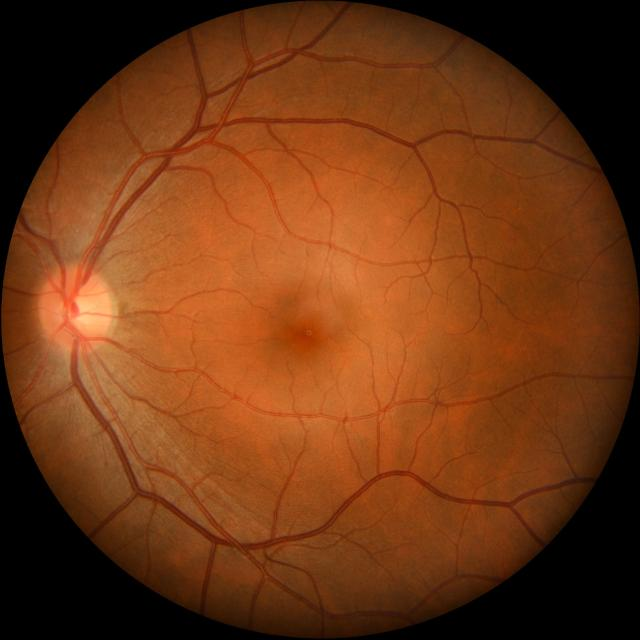OC: (62, 292, 98, 328)
OD: (38, 265, 114, 352)
